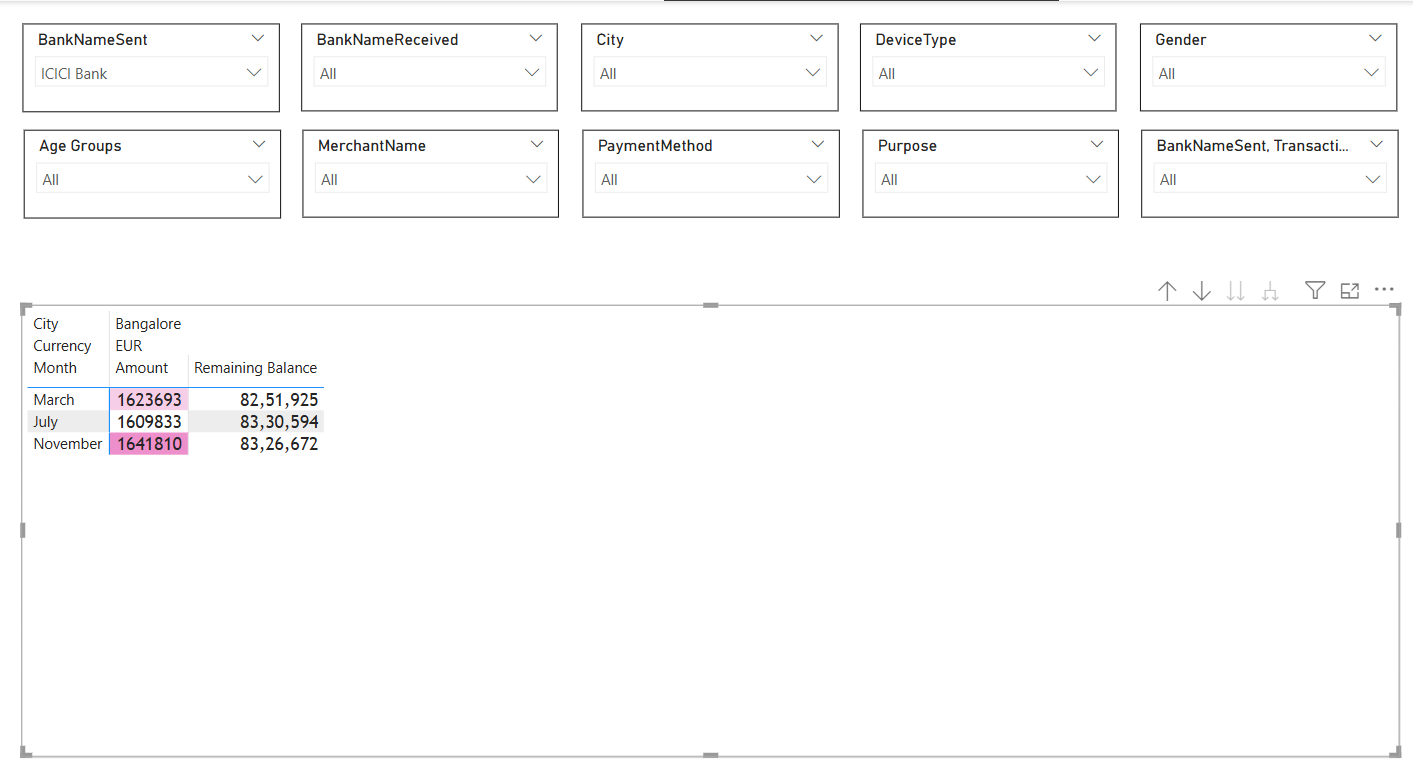

What the dashboard file says about the page in this screenshot:
{"tool":"powerbi","page":{"name":" Page 2","canvas":[1280,720],"ordinal":1},"visuals":[{"type":"slicer","fields":{"Values":["Sheet1.BankNameSent"]},"box":[20,20,232,80],"z":0},{"type":"slicer","fields":{"Values":["UPI Transactions.BankNameReceived"]},"box":[272,20,231.3,79],"z":1000},{"type":"slicer","fields":{"Values":["UPI Transactions.City"]},"box":[524,20,232,79],"z":2000},{"type":"slicer","fields":{"Values":["UPI Transactions.DeviceType"]},"box":[776,20,231.3,79],"z":3000},{"type":"slicer","fields":{"Values":["UPI Transactions.Gender"]},"box":[1028,20,232,79],"z":4000},{"type":"slicer","fields":{"Values":["UPI Transactions.Age Groups"]},"box":[21.2,116.1,232,80],"z":5000},{"type":"slicer","fields":{"Values":["UPI Transactions.MerchantName"]},"box":[273.2,116.1,231.3,79],"z":6000},{"type":"slicer","fields":{"Values":["UPI Transactions.PaymentMethod"]},"box":[525.2,116.1,232,79],"z":7000},{"type":"slicer","fields":{"Values":["UPI Transactions.Purpose"]},"box":[777.2,116.1,231.3,79],"z":8000},{"type":"slicer","fields":{"Values":["Sheet1.BankNameSent","UPI Transactions.TransactionType"]},"box":[1029.2,116.1,232,79],"z":9000},{"type":"pivotTable","fields":{"Values":["Sum(UPI Transactions.Amount)","Sum(UPI Transactions.RemainingBalance)"],"Rows":["UPI Transactions.TransactionDate.Variation.Date Hierarchy.Month"],"Columns":["UPI Transactions.City","UPI Transactions.Currency"]},"box":[19.6,273.9,1242.4,408.4],"z":9001}]}

Visuals, with their boxes on the page's 1280x720 design canvas (x1, y1, x2, y2). These are canvas units, not pixel positions in the 1413x766 screenshot, which may show the page scaled, cropped or inside an application window:
slicer - Sheet1.BankNameSent: x1=20 y1=20 x2=252 y2=100
slicer - UPI Transactions.BankNameReceived: x1=272 y1=20 x2=503 y2=99
slicer - UPI Transactions.City: x1=524 y1=20 x2=756 y2=99
slicer - UPI Transactions.DeviceType: x1=776 y1=20 x2=1007 y2=99
slicer - UPI Transactions.Gender: x1=1028 y1=20 x2=1260 y2=99
slicer - UPI Transactions.Age Groups: x1=21 y1=116 x2=253 y2=196
slicer - UPI Transactions.MerchantName: x1=273 y1=116 x2=504 y2=195
slicer - UPI Transactions.PaymentMethod: x1=525 y1=116 x2=757 y2=195
slicer - UPI Transactions.Purpose: x1=777 y1=116 x2=1008 y2=195
slicer - Sheet1.BankNameSent x UPI Transactions.TransactionType: x1=1029 y1=116 x2=1261 y2=195
pivotTable - Sum(UPI Transactions.Amount) x Sum(UPI Transactions.RemainingBalance): x1=20 y1=274 x2=1262 y2=682
